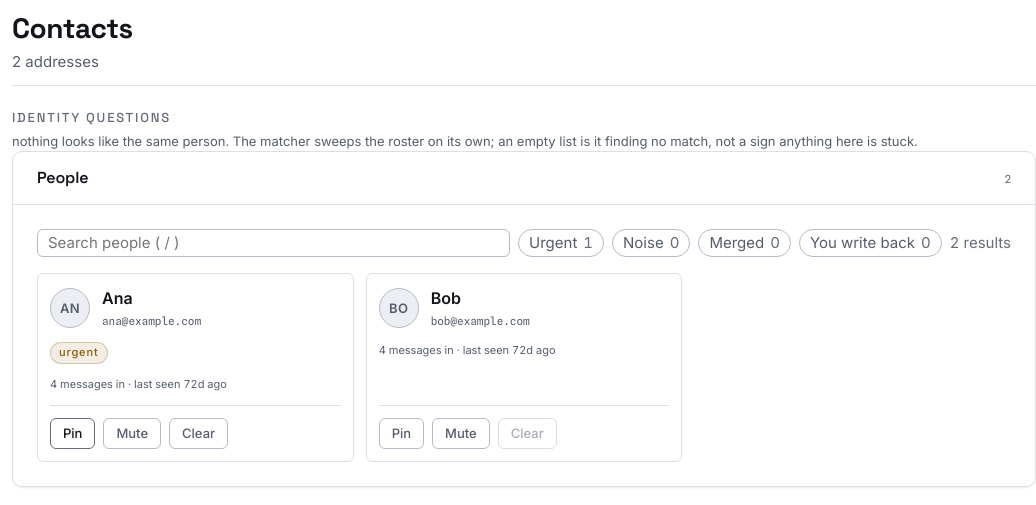
Scenario: Contacts — finding people › narrows the roster by search text and by verdict filter
The image size is (1036, 505).
Expected: the text "bob@example.com" is shown, [431,313,530,330]
Step 1. Type "bob" into the search field labelled "Search people" → (274, 243), box [37,229,510,257]
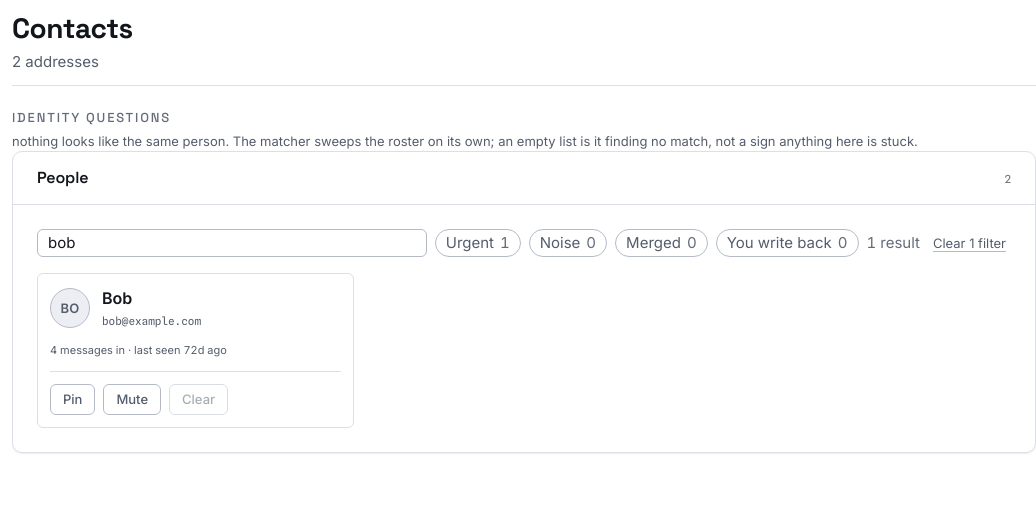
Expected: the text "bob@example.com" is shown, [102,313,201,330]
Now the text "ana@example.com" is gone
Step 2. Clear the search field named "Search people" → (232, 243), box [37,229,427,257]
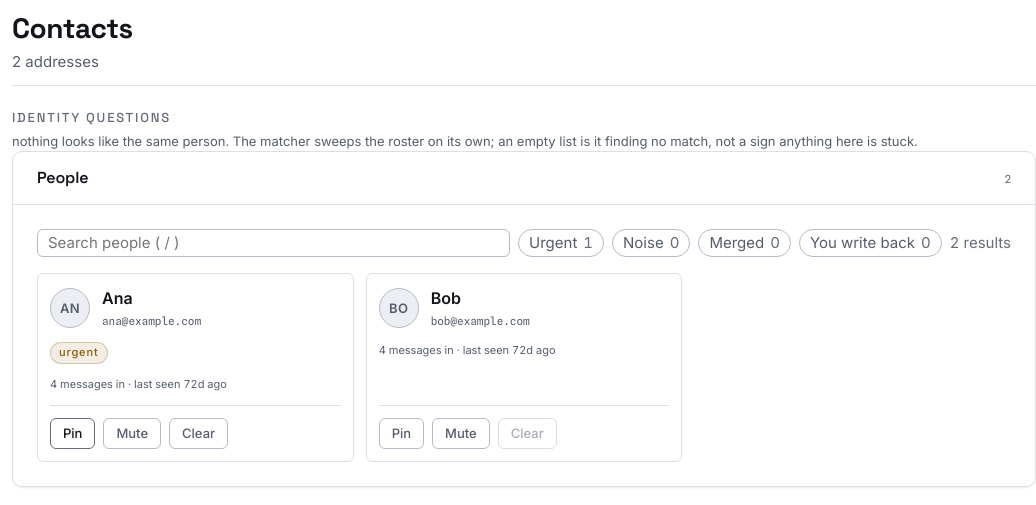
Step 3. Click the button "Urgent 1" → (561, 243), box [518,229,604,257]
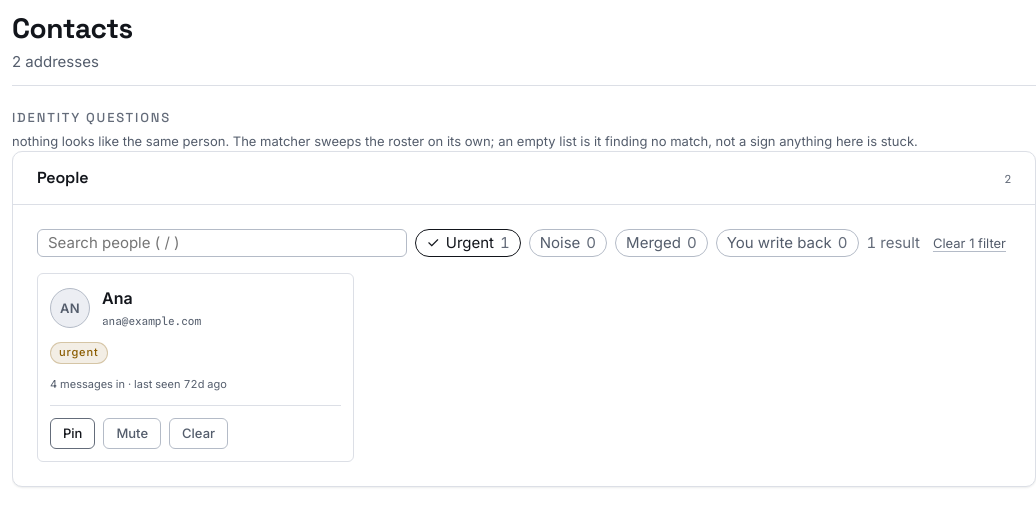
Now the text "ana@example.com" is shown, box [102,313,201,330]
Now the text "bob@example.com" is gone
